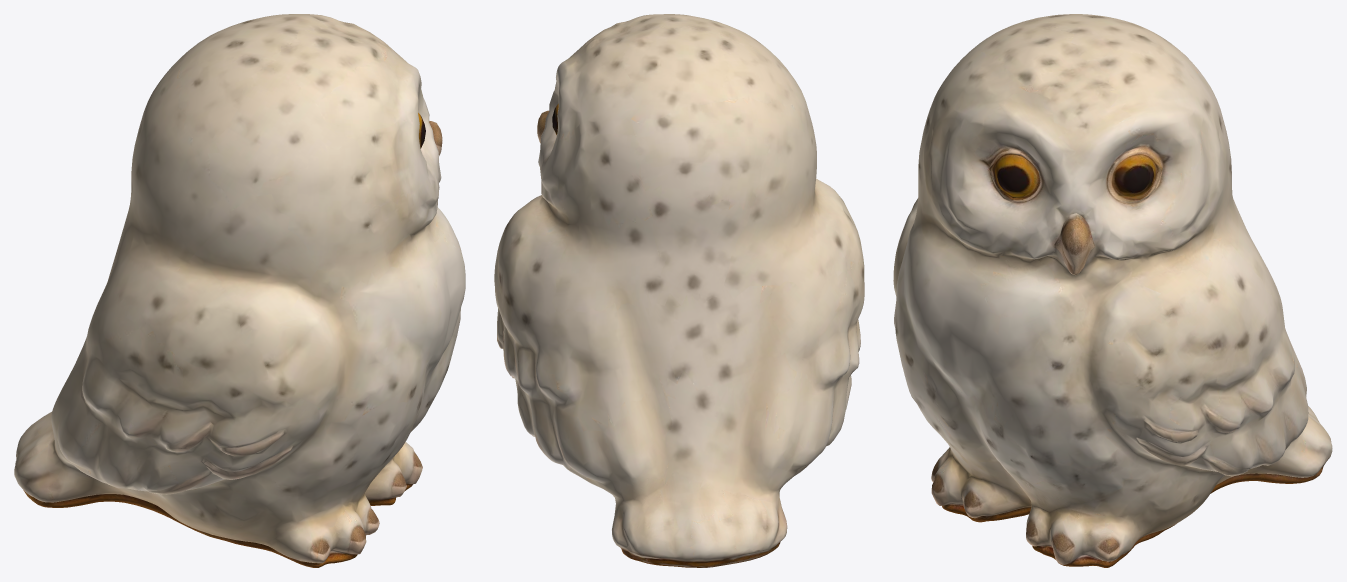
Rendered from owl.glb.
The picture shows the model from 3 angles, left to right: view 1: azimuth 30°, elevation 25°; view 2: azimuth 150°, elevation 25°; view 3: azimuth 270°, elevation 25°; orthographic projection. The views are drawn at different scales.
Size of the model in its own units: 1.54 by 2 by 1.65.
Materials: 1 (1 with a texture image).
